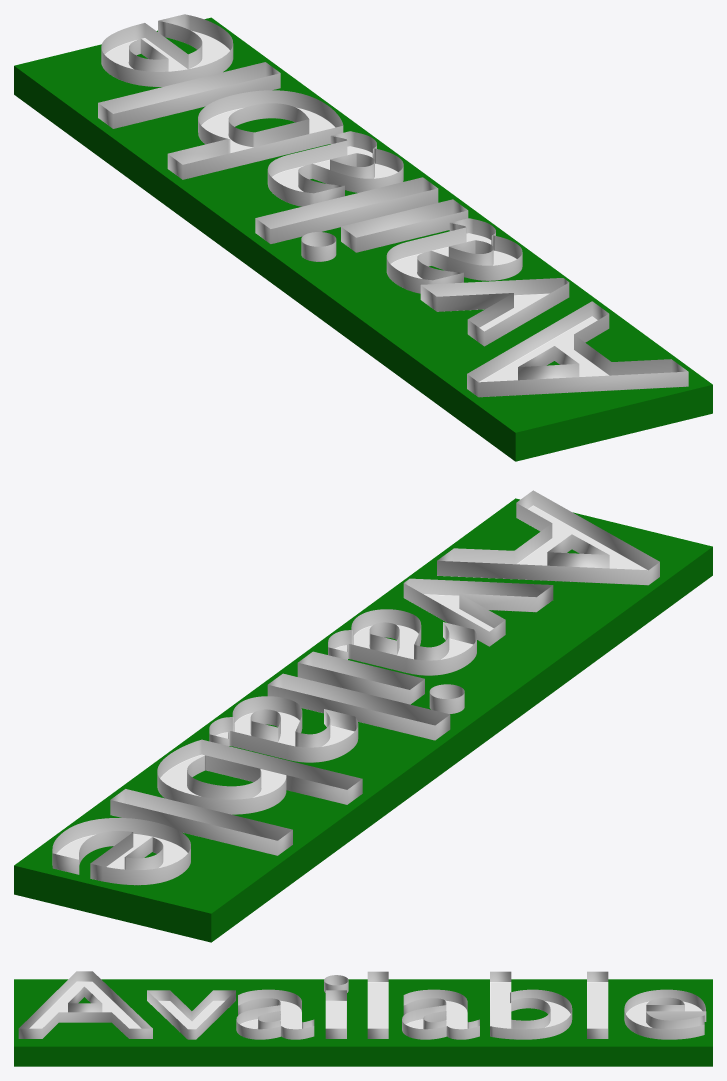
Rendered from available1.glb.
3 renders of one model, top to bottom at view 1: azimuth 30°, elevation 25°; view 2: azimuth 150°, elevation 25°; view 3: azimuth 270°, elevation 25°, orthographic. The views are drawn at different scales.
Parts seen in each view (by area): view 1: Text, Cube; view 2: Text, Cube; view 3: Cube, Text.
Boxes of the visible parts, x1=… form: Text: x1=98, y1=14, x2=688, y2=397; Cube: x1=14, y1=17, x2=712, y2=461; Text: x1=52, y1=490, x2=659, y2=885; Cube: x1=14, y1=498, x2=712, y2=942; Cube: x1=14, y1=979, x2=712, y2=1066; Text: x1=18, y1=971, x2=706, y2=1039.
Size of the model in its own units: 1 by 0.2162 by 4.4.
